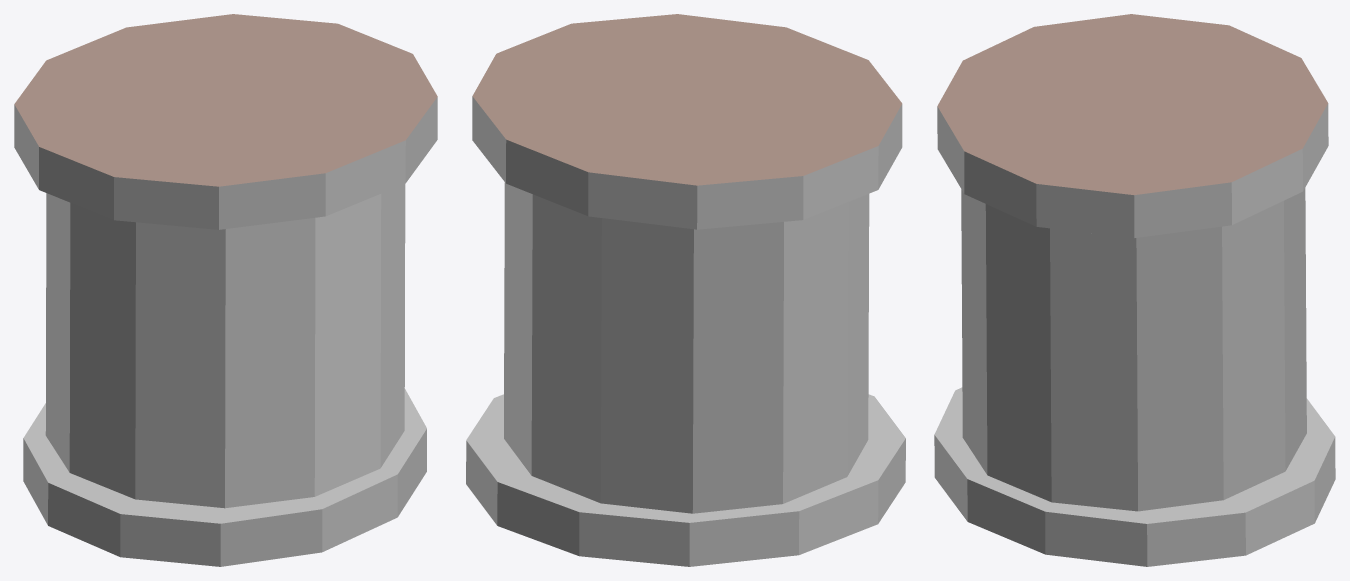
The model's file is pillar.fbx.
3 views of the same model, side by side, from view 1: azimuth 30°, elevation 25°; view 2: azimuth 150°, elevation 25°; view 3: azimuth 270°, elevation 25° (orthographic). The views are drawn at different scales.
Visible parts, largest first — view 1: mesh1855325897; view 2: mesh1855325897; view 3: mesh1855325897.
Part boxes in pixels (x1=…): mesh1855325897: x1=14, y1=14, x2=437, y2=566; mesh1855325897: x1=466, y1=14, x2=905, y2=566; mesh1855325897: x1=934, y1=14, x2=1335, y2=566.
Size of the model in its own units: 91.47 by 88.29 by 85.41.
